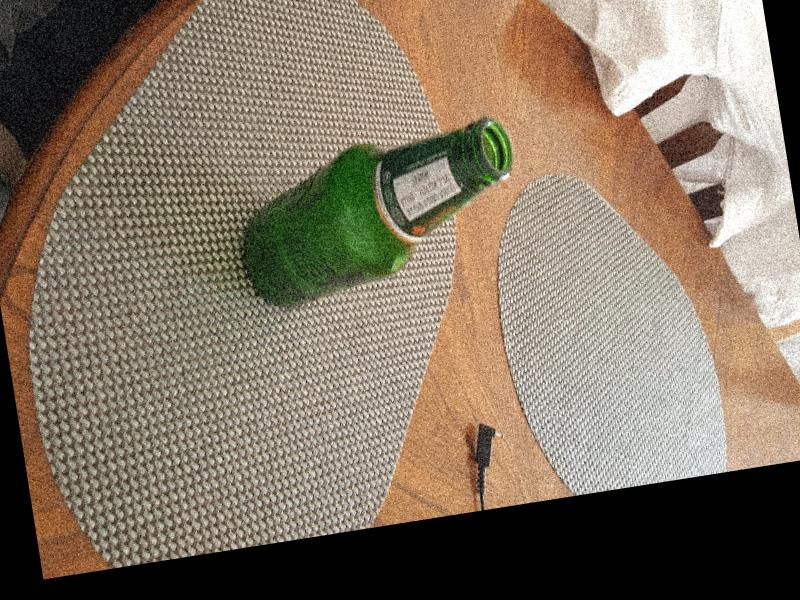Beer: (229, 126, 527, 315)
